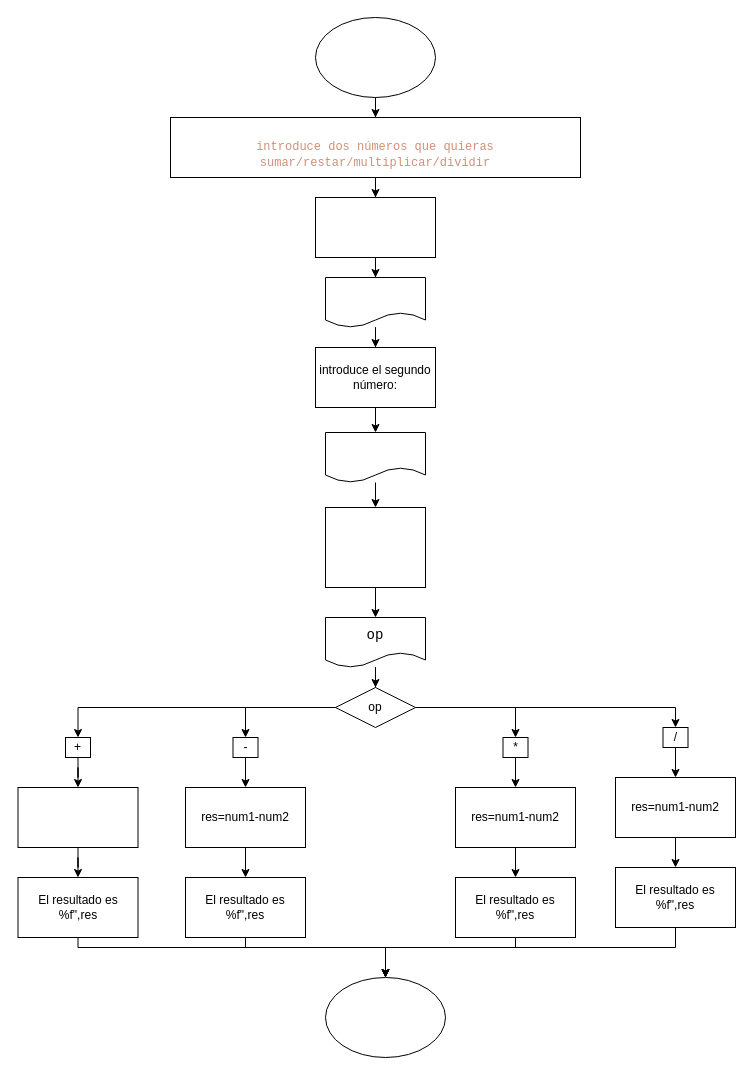
This 753x1075 diagram has some shape labels left out. The shapes that lost their labels are listed below. From the top down, each one's centre as x and y in pixels, then its label:
At pixel 375 57: "Inicio".
At pixel 375 227: "introduce el primer número:".
At pixel 375 302: "num1".
At pixel 375 457: "num2".
At pixel 375 547: "escoje SUMAR RESTAR MULTIPLICAR DIVIDIR".
At pixel 77 817: "res=num1+num2".
At pixel 385 1017: "Fin".
